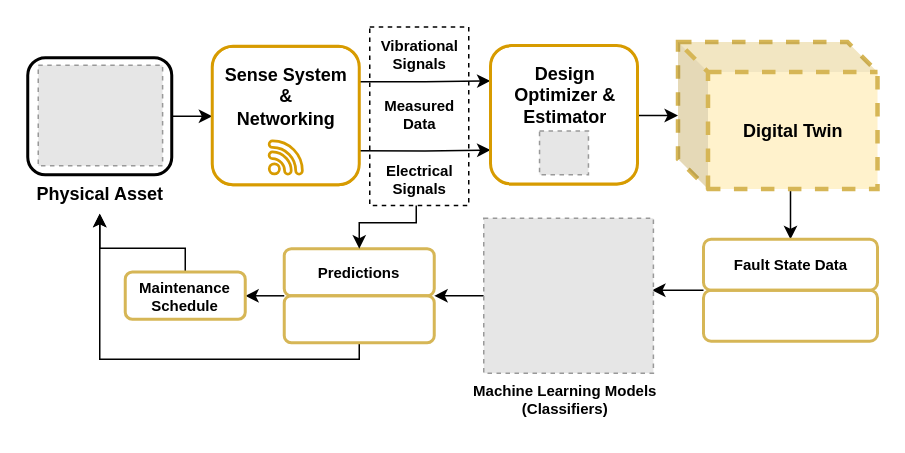
Image size: 905x453. Some labels were removed from this diagram. Grey dashed boxes stand in for pictures. Each missing label, with the centre of its shape:
Healthy Data: (789,315)
Remaining Useful Life: (358,318)
